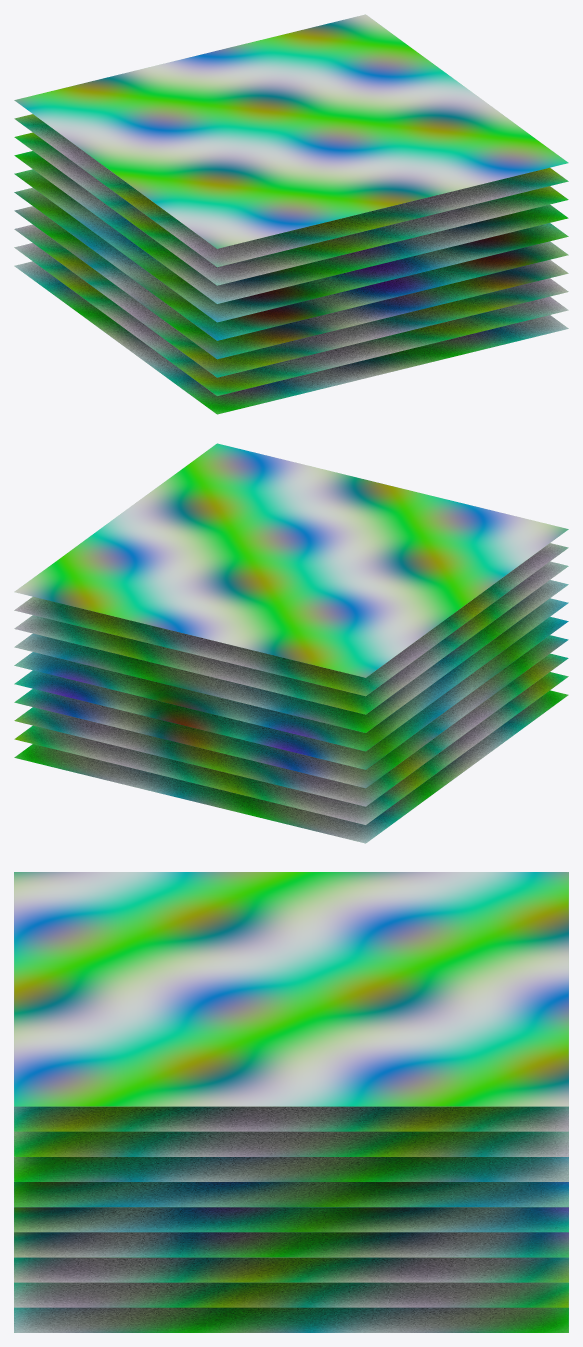
File: TenTex.dae
3 renders of one model, top to bottom at view 1: azimuth 30°, elevation 25°; view 2: azimuth 150°, elevation 25°; view 3: azimuth 270°, elevation 25°, orthographic. The views are drawn at different scales.
Visible parts, largest first — view 1: Plane_010, Plane_001, Plane_008, Plane_009, Plane_005, Plane_006, Plane_002, Plane_003, Plane_007, Plane_004; view 2: Plane_010, Plane_001, Plane_008, Plane_009, Plane_005, Plane_006, Plane_002, Plane_003, Plane_007, Plane_004; view 3: Plane_010, Plane_001, Plane_002, Plane_003, Plane_004, Plane_005, Plane_006, Plane_008, Plane_009, Plane_007.
Boxes of the visible parts, x1=… form: Plane_010: x1=14, y1=14, x2=568, y2=248; Plane_001: x1=14, y1=261, x2=568, y2=414; Plane_008: x1=14, y1=132, x2=568, y2=285; Plane_009: x1=14, y1=114, x2=568, y2=267; Plane_005: x1=14, y1=187, x2=568, y2=340; Plane_006: x1=14, y1=169, x2=568, y2=322; Plane_002: x1=14, y1=243, x2=568, y2=395; Plane_003: x1=14, y1=224, x2=568, y2=377; Plane_007: x1=14, y1=151, x2=568, y2=303; Plane_004: x1=14, y1=206, x2=568, y2=359; Plane_010: x1=14, y1=443, x2=568, y2=677; Plane_001: x1=14, y1=690, x2=568, y2=843; Plane_008: x1=14, y1=561, x2=568, y2=714; Plane_009: x1=14, y1=543, x2=568, y2=696; Plane_005: x1=14, y1=616, x2=568, y2=769; Plane_006: x1=14, y1=598, x2=568, y2=751; Plane_002: x1=14, y1=672, x2=568, y2=824; Plane_003: x1=14, y1=653, x2=568, y2=806; Plane_007: x1=14, y1=580, x2=568, y2=732; Plane_004: x1=14, y1=635, x2=568, y2=788; Plane_010: x1=14, y1=872, x2=568, y2=1106; Plane_001: x1=14, y1=1307, x2=568, y2=1332; Plane_002: x1=14, y1=1282, x2=568, y2=1307; Plane_003: x1=14, y1=1257, x2=568, y2=1282; Plane_004: x1=14, y1=1232, x2=568, y2=1257; Plane_005: x1=14, y1=1207, x2=568, y2=1232; Plane_006: x1=14, y1=1182, x2=568, y2=1207; Plane_008: x1=14, y1=1131, x2=568, y2=1156; Plane_009: x1=14, y1=1106, x2=568, y2=1131; Plane_007: x1=14, y1=1157, x2=568, y2=1181.
Size of the model in its own units: 2 by 2 by 0.9.
10 materials, 10 textured.
